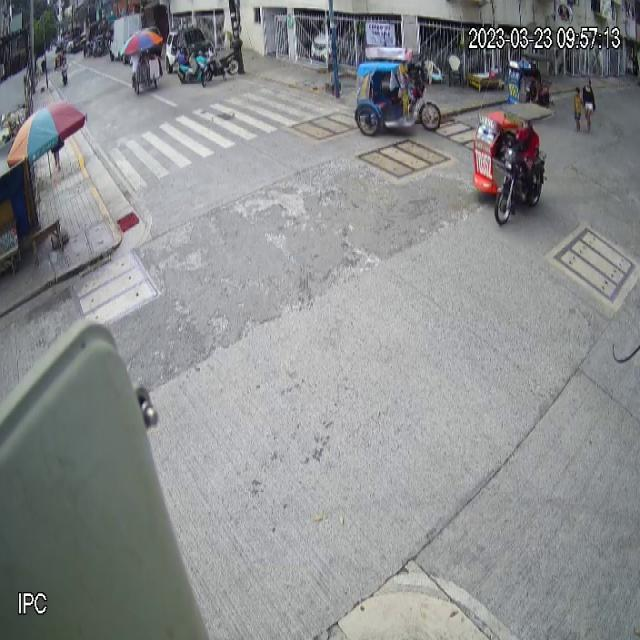Tricycle: (471, 102, 553, 225), (354, 46, 440, 137)
